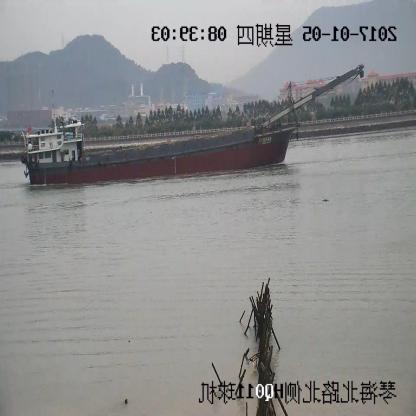Bulk Carrier: (22, 67, 364, 185)
